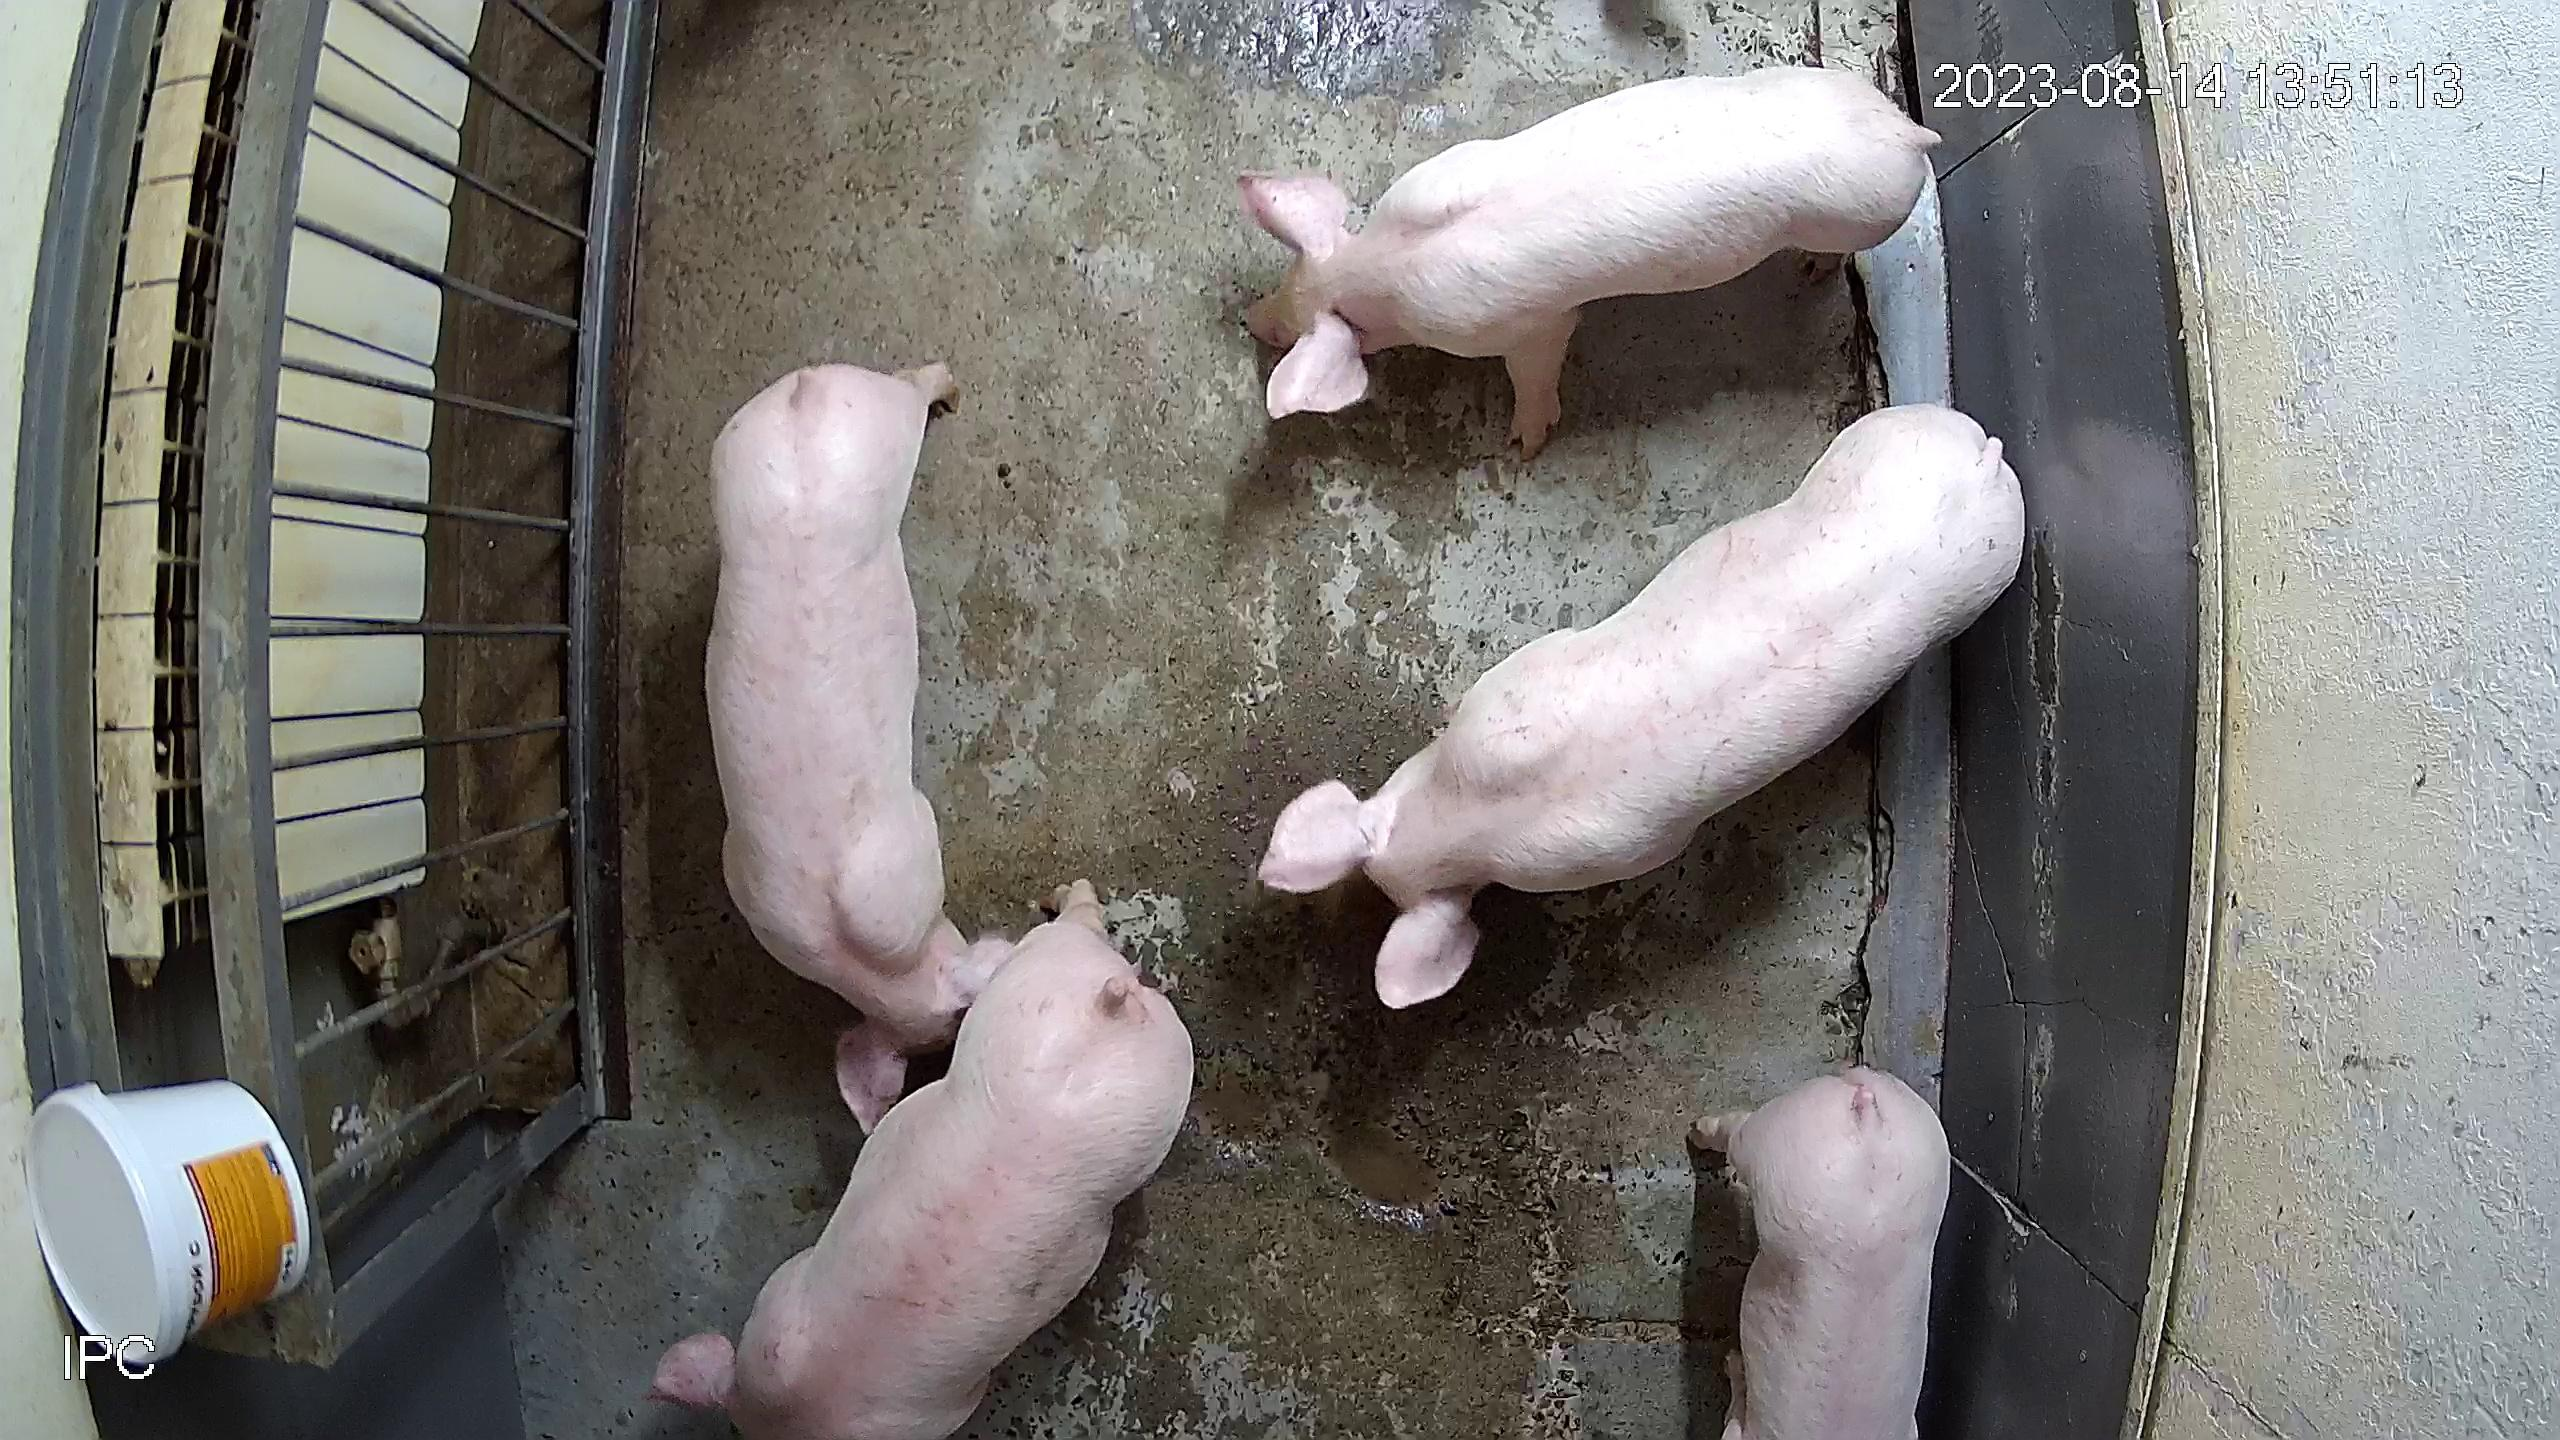Pig: (1261, 403, 2027, 1007), (652, 881, 1194, 1438), (1241, 63, 1939, 455), (703, 360, 1013, 1132), (1698, 1065, 1953, 1440)
